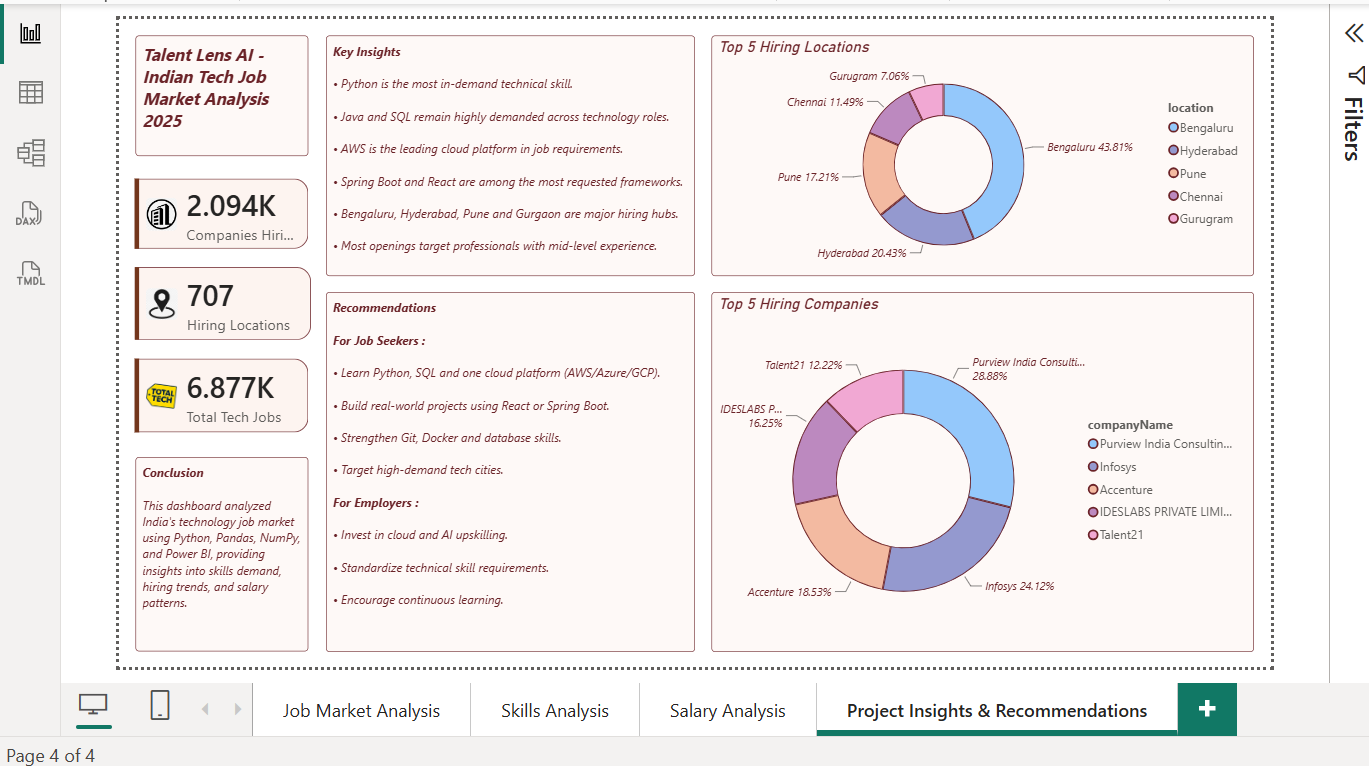

This screenshot's page, from the dashboard's own definition file:
{"tool":"powerbi","page":{"name":"Project Insights & Recommendations","canvas":[1280,720],"ordinal":3},"visuals":[{"type":"textbox","box":[230,17.5,410,267.5],"z":0},{"type":"textbox","box":[230,302.5,410,400],"z":1000},{"type":"donutChart","title":"Top 5 Hiring Companies","fields":{"Category":["Tech Jobs.companyName"],"Y":["CountNonNull(Tech Jobs.title)"]},"box":[657.5,302.5,602.5,400],"z":2000},{"type":"donutChart","title":"Top 5 Hiring Locations","fields":{"Category":["Tech Jobs.location"],"Y":["CountNonNull(Tech Jobs.title)"]},"box":[657.5,17.5,602.5,267.5],"z":3000},{"type":"textbox","box":[18,486,192,216],"z":4000},{"type":"cardVisual","fields":{"Data":["Count(Tech Jobs.companyName)"]},"box":[0,160,227.5,112.5],"z":5000},{"type":"textbox","box":[18,18,192,134],"z":6000},{"type":"cardVisual","fields":{"Data":["Count(Tech Jobs.location)"]},"box":[0,257.5,230,115],"z":6001},{"type":"cardVisual","fields":{"Data":["CountNonNull(Tech Jobs.title)"]},"box":[0,360,227.5,116.2],"z":6002}]}

Visuals, with their boxes on the page's 1280x720 design canvas (x1, y1, x2, y2). These are canvas units, not pixel positions in the 1369x766 screenshot, which may show the page scaled, cropped or inside an application window:
textbox: pyautogui.locateOnScreen(230, 18, 640, 285)
textbox: pyautogui.locateOnScreen(230, 302, 640, 702)
"Top 5 Hiring Companies" donutChart: pyautogui.locateOnScreen(658, 302, 1260, 702)
"Top 5 Hiring Locations" donutChart: pyautogui.locateOnScreen(658, 18, 1260, 285)
textbox: pyautogui.locateOnScreen(18, 486, 210, 702)
cardVisual - Count(Tech Jobs.companyName): pyautogui.locateOnScreen(0, 160, 228, 272)
textbox: pyautogui.locateOnScreen(18, 18, 210, 152)
cardVisual - Count(Tech Jobs.location): pyautogui.locateOnScreen(0, 258, 230, 372)
cardVisual - CountNonNull(Tech Jobs.title): pyautogui.locateOnScreen(0, 360, 228, 476)
